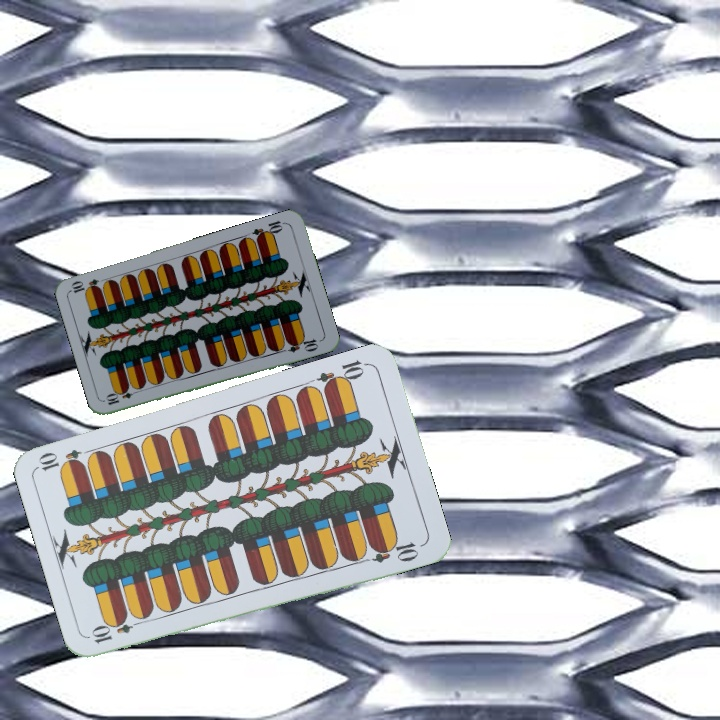E10: (313, 356, 371, 393), (88, 614, 146, 646), (248, 216, 288, 243), (102, 385, 142, 408)
